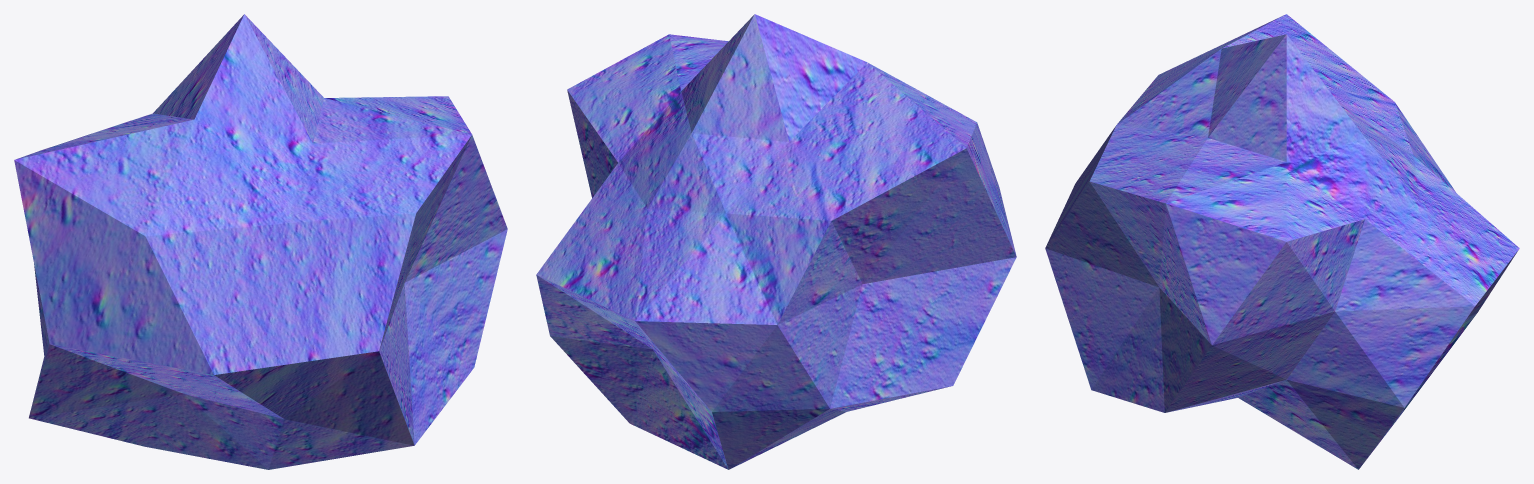
The model's file is smallasteroid14_LOD4.fbx.
3 renders of one model, left to right at view 1: azimuth 30°, elevation 25°; view 2: azimuth 150°, elevation 25°; view 3: azimuth 270°, elevation 25°, orthographic. The views are drawn at different scales.
Visible parts, largest first — view 1: Icosphere; view 2: Icosphere; view 3: Icosphere.
Boxes of the visible parts, x1,y1,x2,y2 form: Icosphere: (14, 14, 507, 469); Icosphere: (536, 14, 1016, 469); Icosphere: (1045, 14, 1519, 469).
Size of the model in its own units: 304 by 276 by 302.
